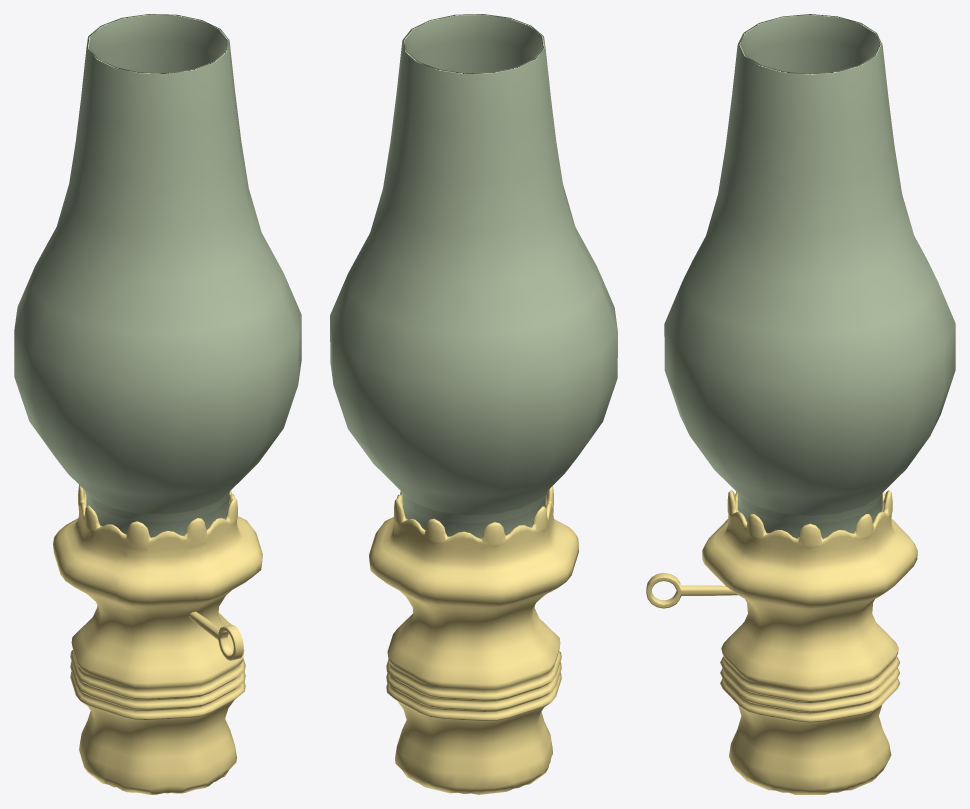
3 renders of one model, left to right at view 1: azimuth 30°, elevation 25°; view 2: azimuth 150°, elevation 25°; view 3: azimuth 270°, elevation 25°, orthographic.
Visible parts, largest first — view 1: glassbit, base, key; view 2: glassbit, base; view 3: glassbit, base, key.
Boxes of the visible parts, x1,y1,x2,y2 form: glassbit: (14, 14, 301, 537); base: (53, 485, 262, 794); key: (189, 611, 243, 660); glassbit: (330, 14, 617, 538); base: (369, 486, 578, 794); glassbit: (664, 14, 955, 538); base: (702, 490, 917, 794); key: (646, 573, 738, 608).
Bounding box in the file's own units: 0.7313 × 2 × 0.7772.
4 materials, 4 textured.
